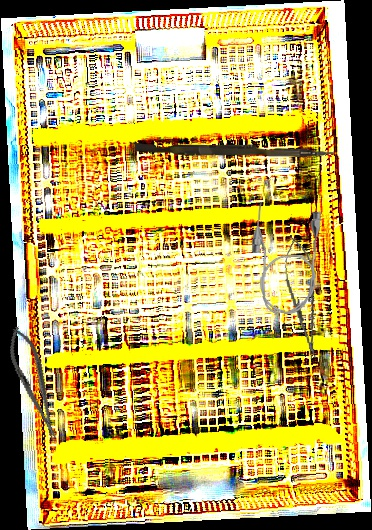Cannula: (248, 201, 322, 316)
Needle Holder: (1, 322, 67, 445), (279, 235, 327, 362)
Pusher: (135, 143, 334, 157)
